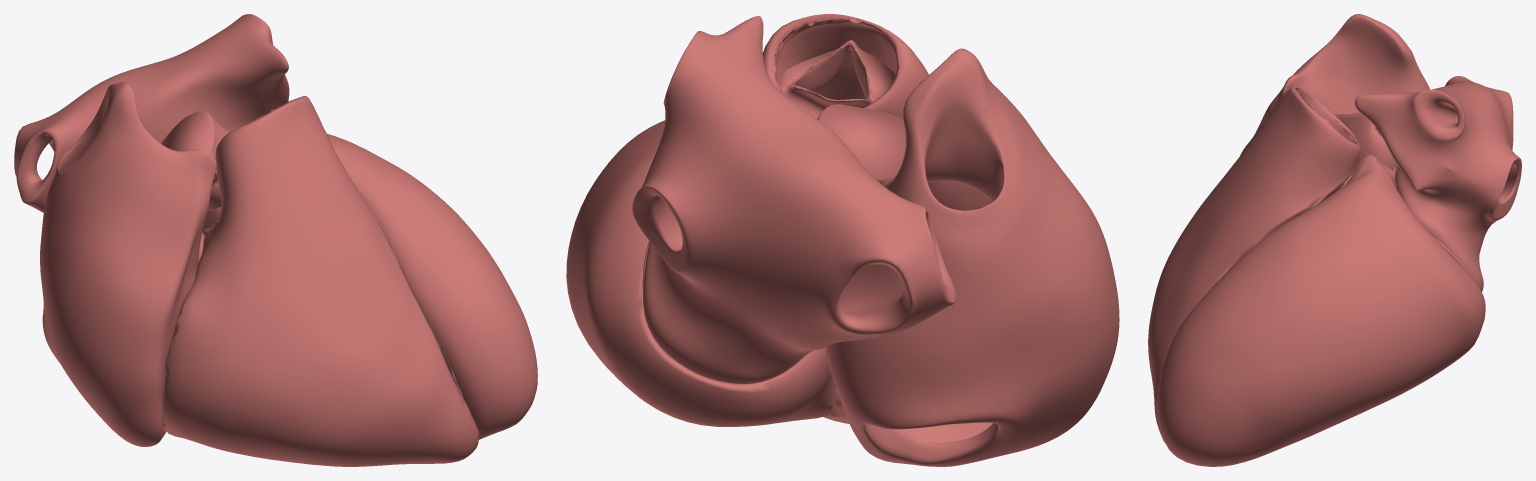
Rendered from vh_m_heart-80.glb.
3 views of the same model, side by side, from view 1: azimuth 30°, elevation 25°; view 2: azimuth 150°, elevation 25°; view 3: azimuth 270°, elevation 25° (orthographic). The views are drawn at different scales.
Parts seen in each view (by area): view 1: VH_M_heart_right_ventricle, VH_M_right_cardiac_atrium, VH_M_heart_left_ventricle, VH_M_left_cardiac_atrium, VH_M_aortic_valve; view 2: VH_M_left_cardiac_atrium, VH_M_right_cardiac_atrium, VH_M_heart_left_ventricle, VH_M_heart_right_ventricle, VH_M_pulmonary_valve, VH_M_aortic_valve; view 3: VH_M_heart_left_ventricle, VH_M_heart_right_ventricle, VH_M_left_cardiac_atrium, VH_M_right_cardiac_atrium, VH_M_aortic_valve.
Boxes of the visible parts, x1,y1,x2,y2 form: VH_M_heart_right_ventricle: (162, 96, 478, 466); VH_M_right_cardiac_atrium: (40, 82, 216, 446); VH_M_heart_left_ventricle: (202, 133, 537, 439); VH_M_left_cardiac_atrium: (14, 14, 289, 212); VH_M_aortic_valve: (161, 111, 229, 210); VH_M_left_cardiac_atrium: (632, 16, 956, 383); VH_M_right_cardiac_atrium: (826, 48, 1119, 466); VH_M_heart_left_ventricle: (566, 120, 833, 426); VH_M_heart_right_ventricle: (763, 14, 928, 423); VH_M_pulmonary_valve: (773, 19, 895, 118); VH_M_aortic_valve: (817, 104, 905, 188); VH_M_heart_left_ventricle: (1156, 153, 1485, 466); VH_M_heart_right_ventricle: (1148, 86, 1360, 442); VH_M_left_cardiac_atrium: (1355, 76, 1521, 291); VH_M_right_cardiac_atrium: (1240, 14, 1429, 155); VH_M_aortic_valve: (1334, 112, 1398, 169).
Size of the model in its own units: 0.1244 by 0.1054 by 0.1052.
